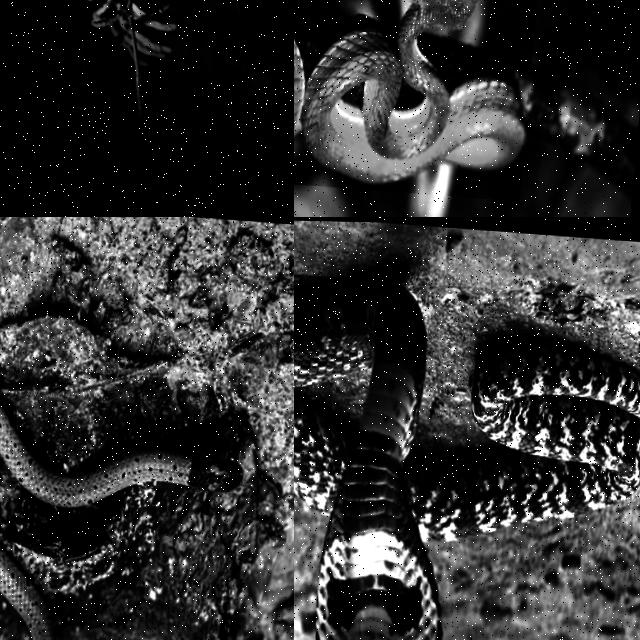Calliophis maculiceps: (0, 403, 241, 506)
Ophiophagus hannah: (294, 281, 639, 639)
Trimeresurus: (294, 0, 525, 183)
snake: (294, 281, 639, 639), (294, 0, 525, 183), (0, 403, 241, 506)
